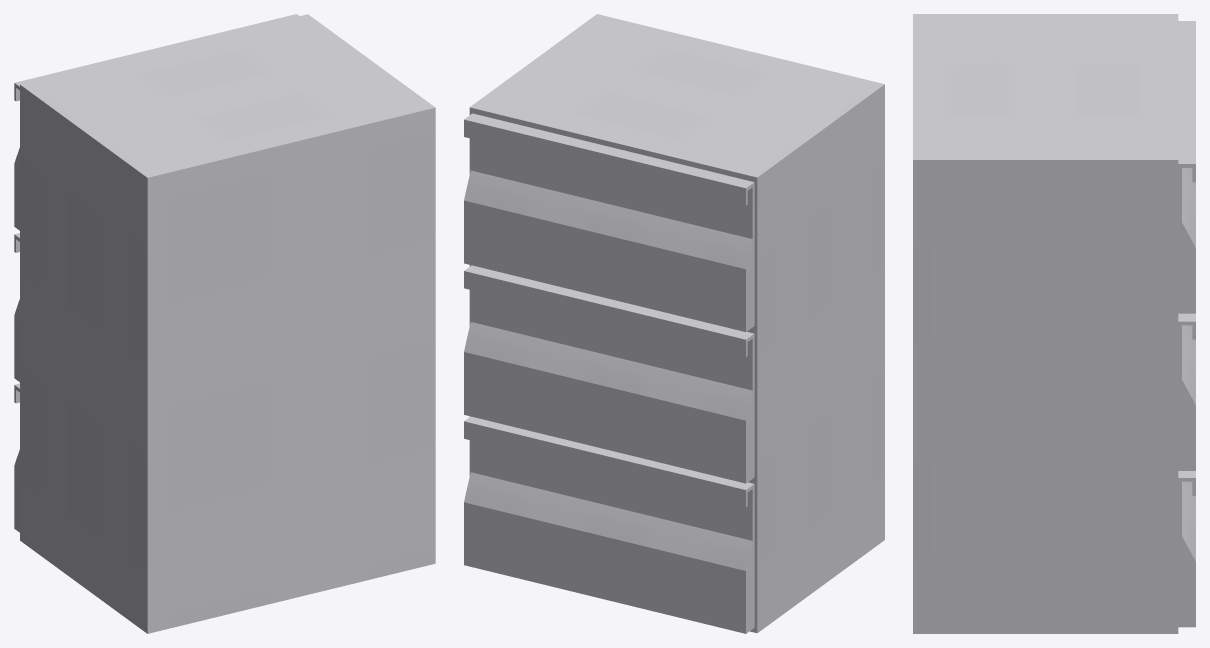
The model's file is Drawer44.glb.
3 views of the same model, side by side, from view 1: azimuth 30°, elevation 25°; view 2: azimuth 150°, elevation 25°; view 3: azimuth 270°, elevation 25° (orthographic). The views are drawn at different scales.
Parts seen in each view (by area): view 1: Drawer44_Body, Drawer44_1; view 2: Drawer44_Body, Drawer44_1, Drawer44_2, Drawer44_3; view 3: Drawer44_Body, Drawer44_1, Drawer44_2, Drawer44_3.
Part boxes in pixels (bbox=[...]): Drawer44_Body: bbox=[20, 14, 435, 633]; Drawer44_1: bbox=[14, 14, 299, 230]; Drawer44_Body: bbox=[469, 14, 884, 633]; Drawer44_1: bbox=[464, 113, 754, 331]; Drawer44_2: bbox=[464, 265, 754, 483]; Drawer44_3: bbox=[464, 416, 754, 633]; Drawer44_Body: bbox=[913, 14, 1178, 633]; Drawer44_1: bbox=[1178, 21, 1195, 313]; Drawer44_2: bbox=[1178, 313, 1195, 470]; Drawer44_3: bbox=[1178, 471, 1195, 627].
Bounding box in the file's own units: 1.06 × 1.61 × 0.8694.
1 material, 1 textured.
